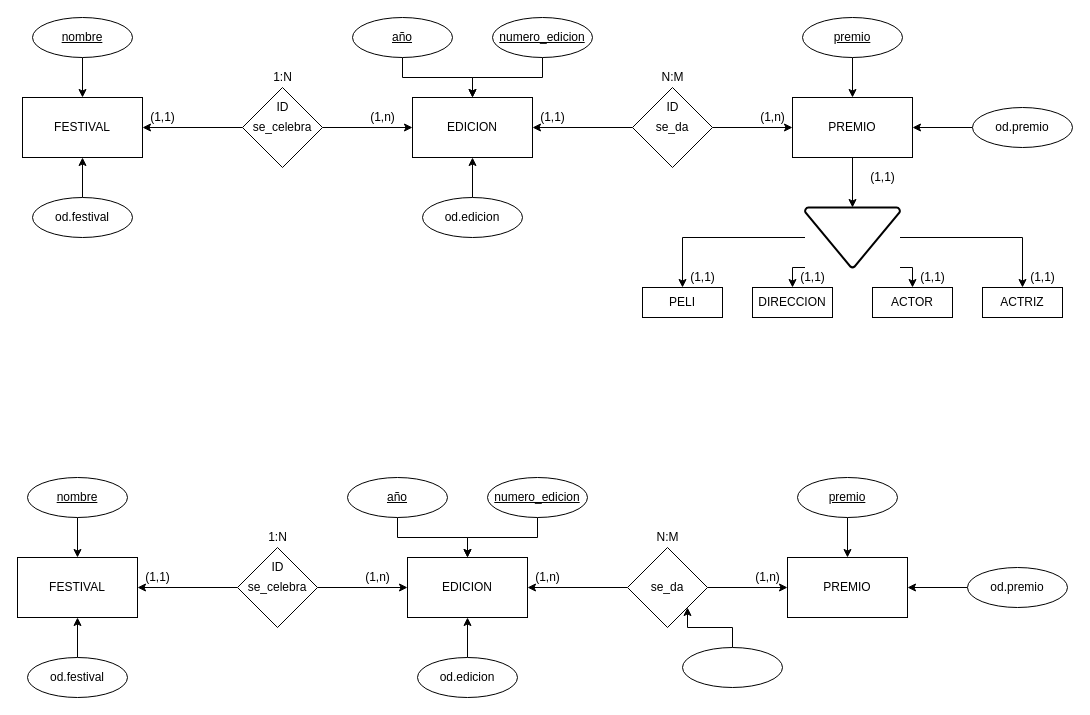
Some shapes in this 1090 by 715 pixel diagram are drawn without their labels. The centre of each missing label's shape, as x and y in pixels:
es_un: pixel 852 237
ganador: pixel 732 667
